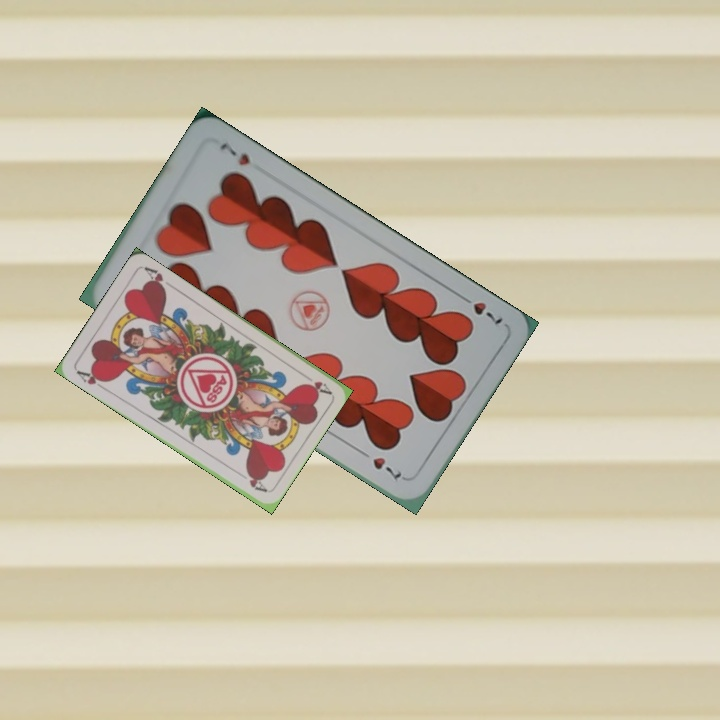H7: (454, 290, 506, 329)
HA: (72, 366, 110, 393), (301, 377, 333, 397)
